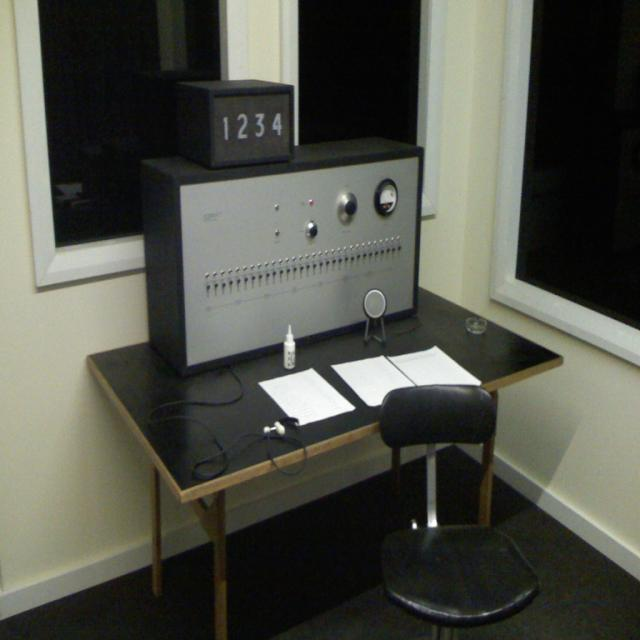chair: (379, 387, 537, 626)
desk: (86, 288, 563, 640)
